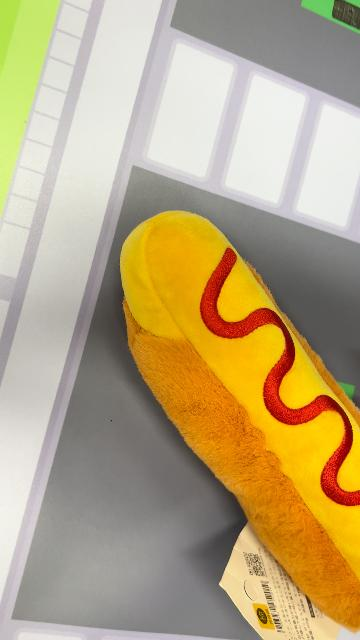hotdog: (120, 208, 358, 634)
